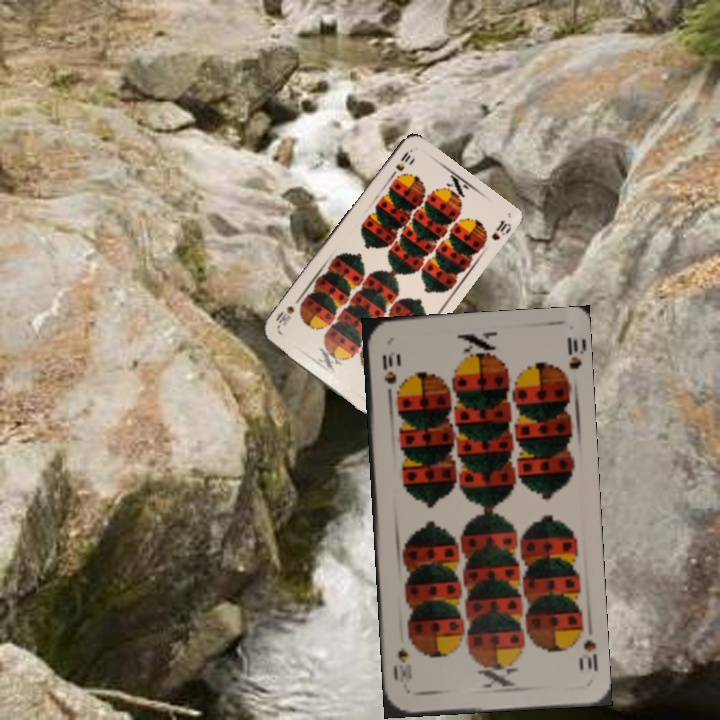S10: (378, 347, 399, 401), (386, 145, 415, 181), (575, 636, 601, 674)
